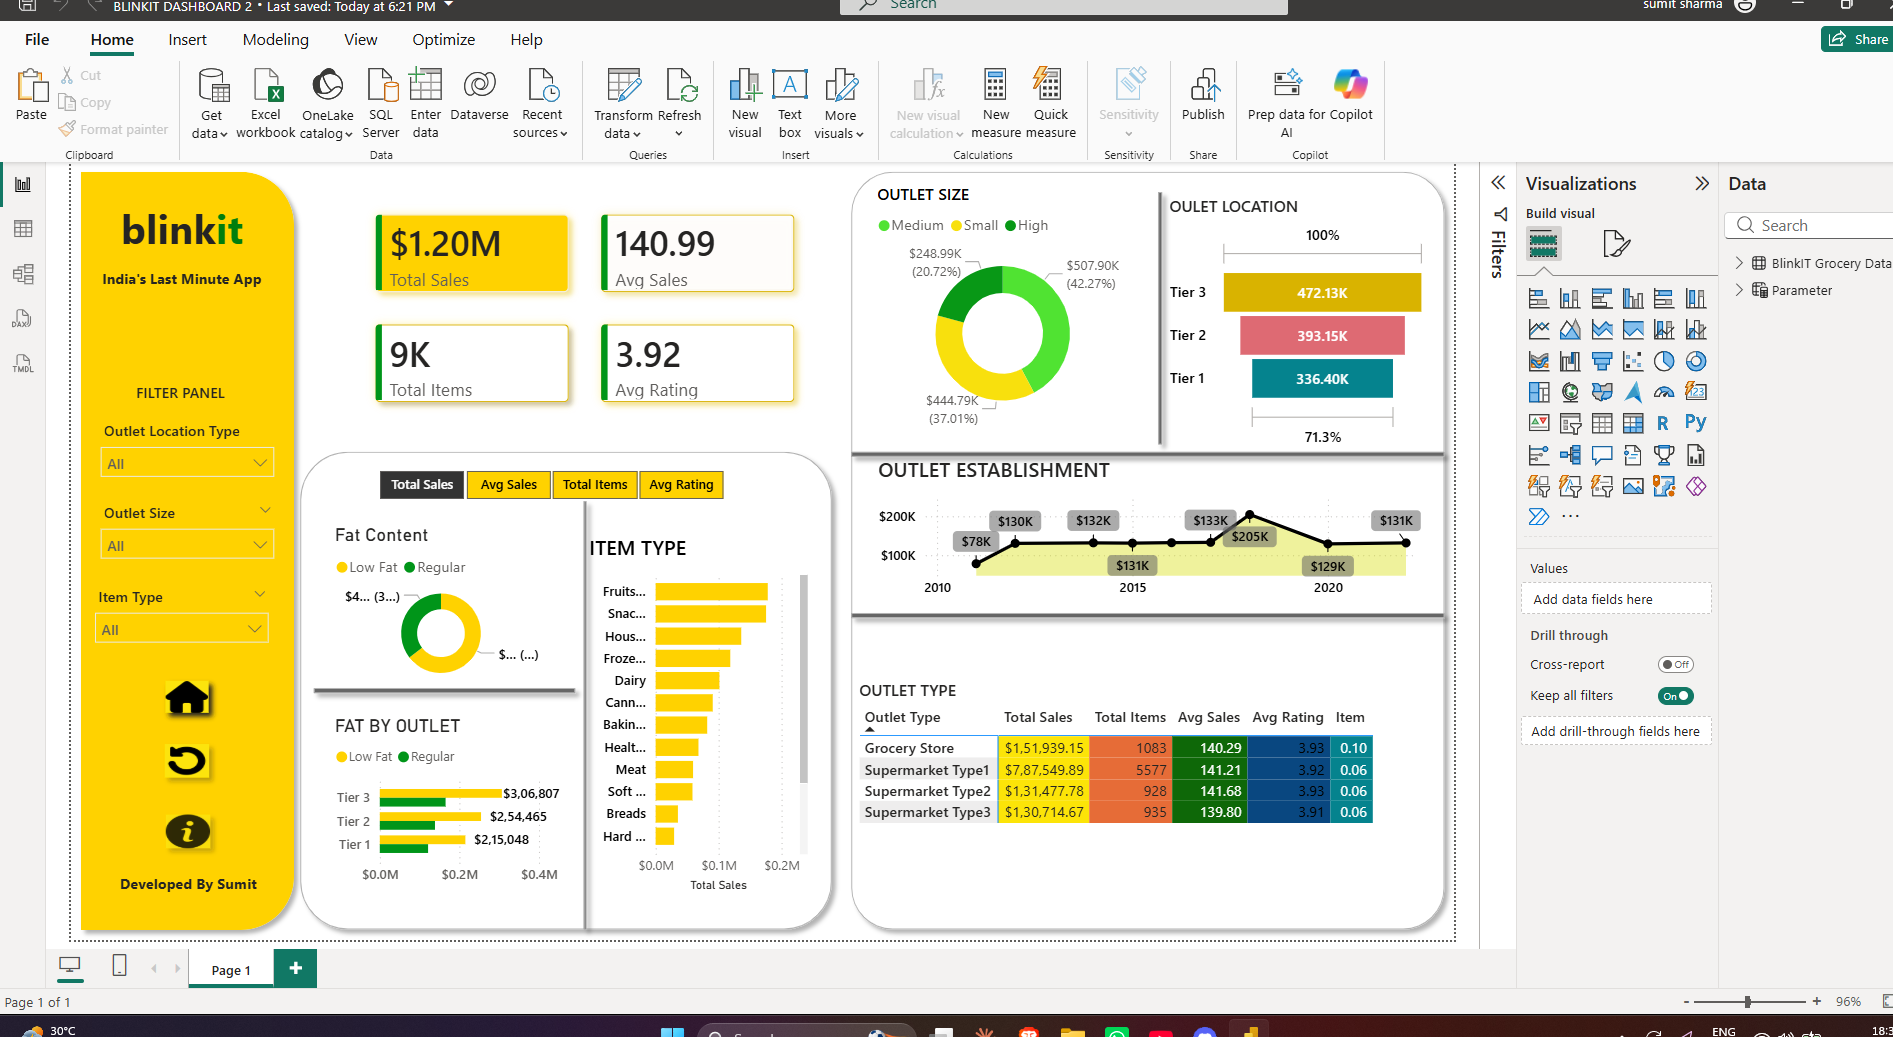

Layout of this report page (visuals, bound fields, positions):
{"tool":"powerbi","page":{"name":"Page 1","canvas":[1280,720],"ordinal":0},"visuals":[{"type":"shape","box":[0,0,215.5,720],"z":0},{"type":"textbox","box":[17.3,29.9,170.4,63.3],"z":1000},{"type":"textbox","box":[17.6,93.3,170,51.8],"z":2000},{"type":"cardVisual","fields":{"Data":["BlinkIT Grocery Data.Total Sales","BlinkIT Grocery Data.Avg Sales","BlinkIT Grocery Data.Total Items","BlinkIT Grocery Data.Avg Rating"]},"box":[251.9,18.7,446.8,232.2],"z":3000},{"type":"shape","box":[203.2,259.2,510.1,460.3],"z":4000},{"type":"slicer","fields":{"Values":["Parameter.Parameter"]},"box":[260.2,278.9,368.1,34.2],"z":5000},{"type":"donutChart","title":"Fat Content","fields":{"Y":["BlinkIT Grocery Data.Total Sales"],"Category":["BlinkIT Grocery Data.Item Fat Content"]},"box":[239.5,334.9,205.3,154.5],"z":6000},{"type":"clusteredBarChart","title":"FAT BY OUTLET","fields":{"Y":["BlinkIT Grocery Data.Total Sales"],"Series":["BlinkIT Grocery Data.Item Fat Content"],"Category":["BlinkIT Grocery Data.Outlet Location Type"]},"box":[239.5,511.1,235.3,168],"z":7000},{"type":"barChart","title":"ITEM TYPE","fields":{"Y":["BlinkIT Grocery Data.Total Sales"],"Category":["BlinkIT Grocery Data.Item Type"]},"box":[474.8,343.2,212.5,335.9],"z":8000},{"type":"shape","box":[713.3,0,567.1,719.5],"z":9000},{"type":"donutChart","title":"OUTLET SIZE","fields":{"Category":["BlinkIT Grocery Data.Outlet Size"],"Y":["BlinkIT Grocery Data.Total Sales"]},"box":[741.7,18.4,241.6,231.7],"z":10000},{"type":"funnel","title":" OULET LOCATION","fields":{"Category":["BlinkIT Grocery Data.Outlet Location Type"],"Y":["Sum(BlinkIT Grocery Data.Sales)"]},"box":[1011.9,30.1,247.8,240.5],"z":11000},{"type":"lineChart","title":"OUTLET ESTABLISHMENT","fields":{"Y":["BlinkIT Grocery Data.Total Sales"],"Category":["BlinkIT Grocery Data.Outlet Establishment Year"]},"box":[742.3,270.6,512.2,142],"z":12000},{"type":"pivotTable","title":"OUTLET TYPE","fields":{"Values":["BlinkIT Grocery Data.Total Sales","BlinkIT Grocery Data.Total Items","BlinkIT Grocery Data.Avg Sales","BlinkIT Grocery Data.Avg Rating","Avg(BlinkIT Grocery Data.Item Visibility)"],"Rows":["BlinkIT Grocery Data.Outlet Type"]},"box":[724.7,477.9,516.3,201.1],"z":13000},{"type":"shape","box":[465.5,304.8,20.7,414.7],"z":14000},{"type":"shape","box":[215.6,477.9,260.2,22.8],"z":15000},{"type":"shape","box":[997.4,18.7,21.8,251.9],"z":16000},{"type":"shape","box":[713.3,259.2,567.1,22.8],"z":17000},{"type":"shape","box":[713.3,408.5,567.1,22.8],"z":18000},{"type":"slicer","title":"OUTLET SIZE","fields":{"Values":["BlinkIT Grocery Data.Outlet Size"]},"box":[17.6,310,180.4,65.3],"z":19000},{"type":"slicer","title":"OUTLET SIZE","fields":{"Values":["BlinkIT Grocery Data.Item Type"]},"box":[12.4,387.7,180.4,65.3],"z":20000},{"type":"textbox","box":[34,653,149,35],"z":21000},{"type":"actionButton","box":[77.8,470.7,59.1,48.7],"z":22000},{"type":"slicer","title":"OUTLET SIZE","fields":{"Values":["BlinkIT Grocery Data.Outlet Size"]},"box":[17.6,234.3,180.4,65.3],"z":23000},{"type":"actionButton","box":[78,530,59,49],"z":24000},{"type":"actionButton","box":[79,595,59,49],"z":25000},{"type":"textbox","box":[27,199,149,35],"z":25001}]}

Visuals, with their boxes on the page's 1280x720 design canvas (x1, y1, x2, y2). These are canvas units, not pixel positions in the 1893x1037 screenshot, which may show the page scaled, cropped or inside an application window:
shape: 0/0/216/720
textbox: 17/30/188/93
textbox: 18/93/188/145
cardVisual - BlinkIT Grocery Data.Total Sales x BlinkIT Grocery Data.Avg Sales: 252/19/699/251
shape: 203/259/713/720
slicer - Parameter.Parameter: 260/279/628/313
"Fat Content" donutChart: 240/335/445/489
"FAT BY OUTLET" clusteredBarChart: 240/511/475/679
"ITEM TYPE" barChart: 475/343/687/679
shape: 713/0/1280/720
"OUTLET SIZE" donutChart: 742/18/983/250
" OULET LOCATION" funnel: 1012/30/1260/271
"OUTLET ESTABLISHMENT" lineChart: 742/271/1254/413
"OUTLET TYPE" pivotTable: 725/478/1241/679
shape: 466/305/486/720
shape: 216/478/476/501
shape: 997/19/1019/271
shape: 713/259/1280/282
shape: 713/408/1280/431
"OUTLET SIZE" slicer: 18/310/198/375
"OUTLET SIZE" slicer: 12/388/193/453
textbox: 34/653/183/688
actionButton: 78/471/137/519
"OUTLET SIZE" slicer: 18/234/198/300
actionButton: 78/530/137/579
actionButton: 79/595/138/644
textbox: 27/199/176/234
